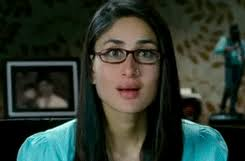Glasses: (92, 40, 167, 73)
